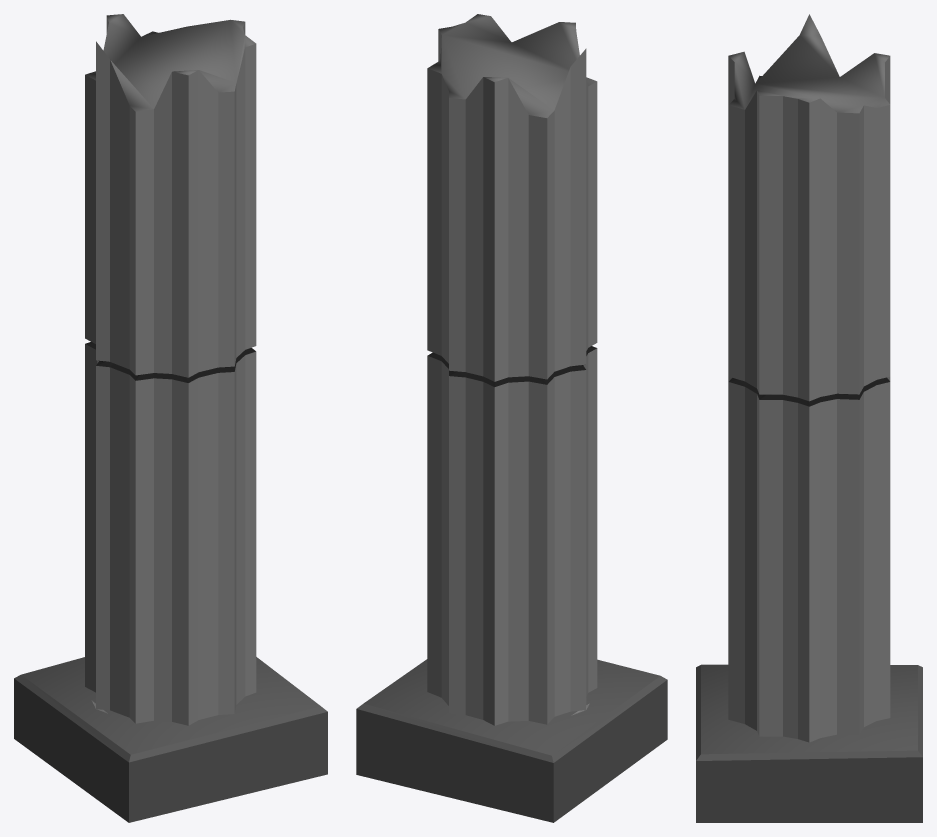
File: ruin4.fbx
3 renders of one model, left to right at view 1: azimuth 30°, elevation 25°; view 2: azimuth 150°, elevation 25°; view 3: azimuth 270°, elevation 25°, orthographic.
Visible parts, largest first — view 1: Object.002; view 2: Object.002; view 3: Object.002.
Boxes of the visible parts, x1,y1,x2,y2 form: Object.002: [14, 14, 327, 822]; Object.002: [356, 14, 667, 822]; Object.002: [696, 14, 922, 822].
Size of the model in its own units: 1664 by 5863 by 1664.
